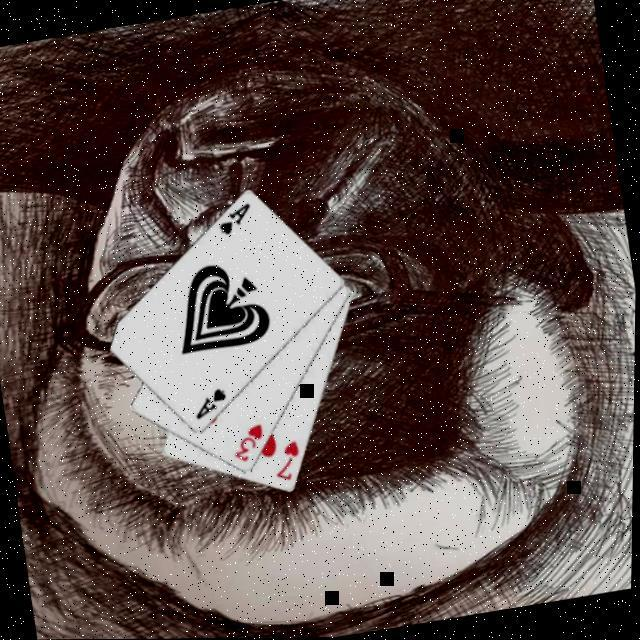3H: (230, 422, 275, 468)
7H: (272, 439, 311, 487)
AS: (192, 386, 236, 426), (216, 201, 260, 241)
